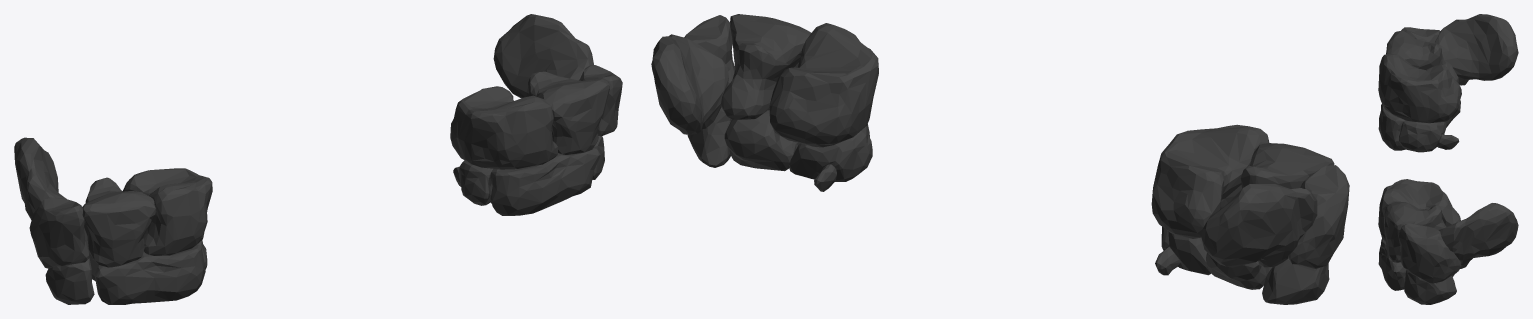
File: skel_carpals.glb
3 views of the same model, side by side, from view 1: azimuth 30°, elevation 25°; view 2: azimuth 150°, elevation 25°; view 3: azimuth 270°, elevation 25° (orthographic). The views are drawn at different scales.
Visible parts, largest first — view 1: skel_carpals; view 2: skel_carpals; view 3: skel_carpals.
Part boxes in pixels (x1=…): skel_carpals: x1=14, y1=14, x2=622, y2=304; skel_carpals: x1=651, y1=14, x2=1349, y2=304; skel_carpals: x1=1378, y1=14, x2=1518, y2=304.
Bounding box in the file's own units: 0.0049 × 0.00106 × 0.00136.
1 material, 1 textured.
